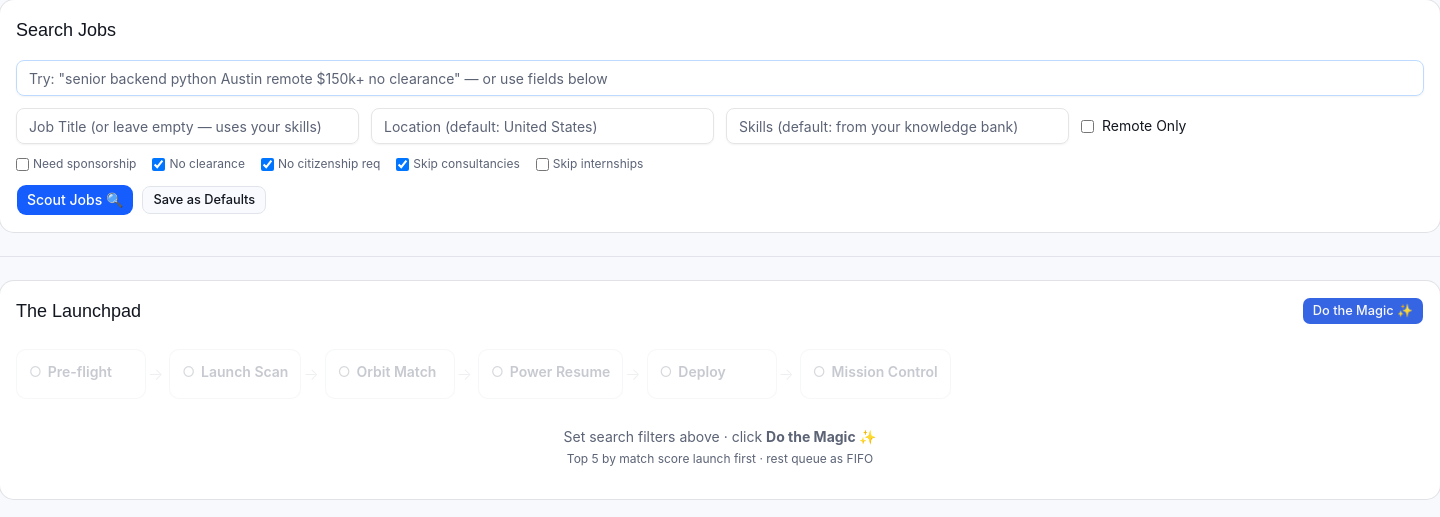
Test: Workflow: Scout jobs and match › shows an error message when search fails
The image size is (1440, 517).
Click the button "Scout Jobs 🔍". click: x=75, y=200
box: [16,184,134,216]
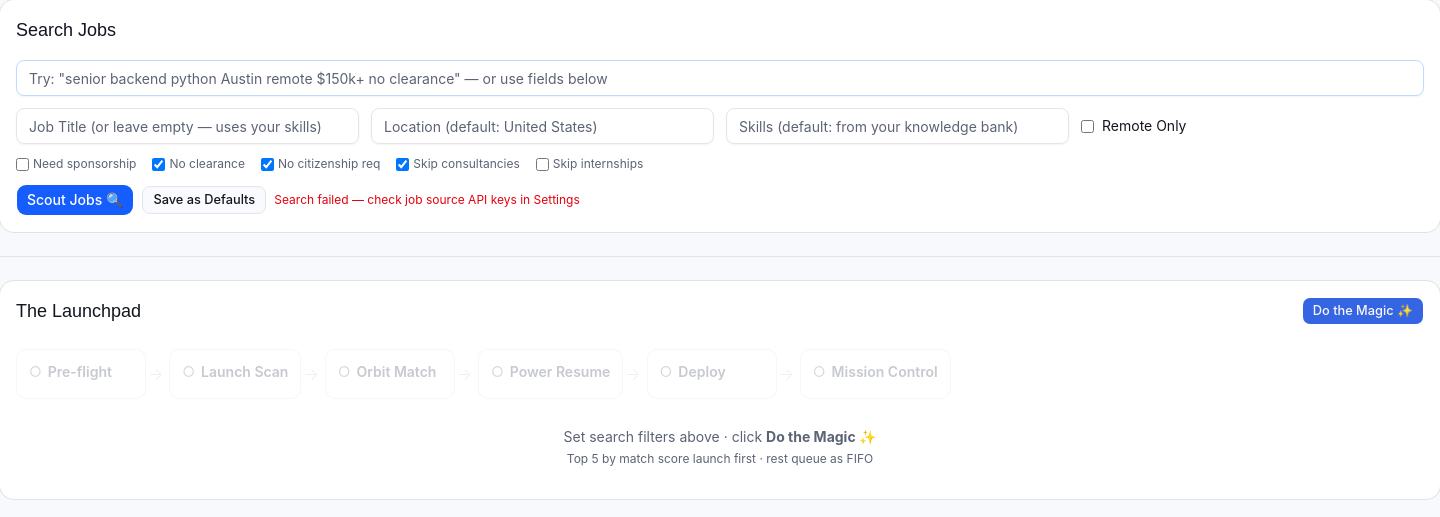
Now the text "Search failed — check job source API keys in Settings" is shown, box [274,192,580,208]
